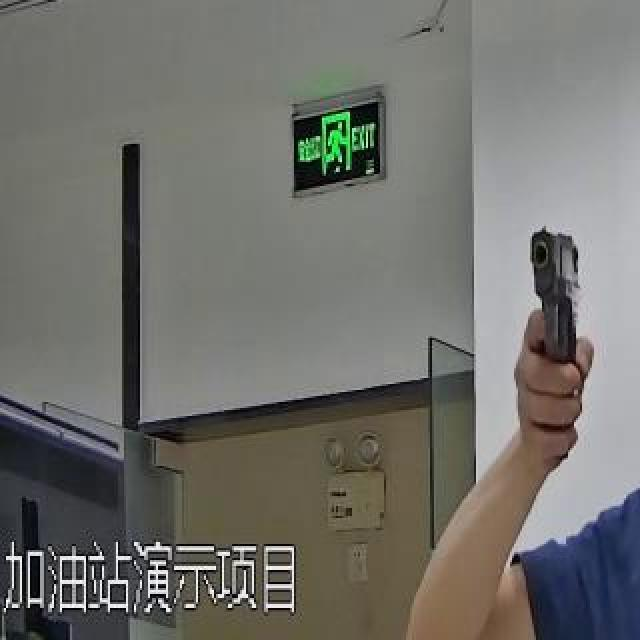Guns: (513, 181, 598, 448)
